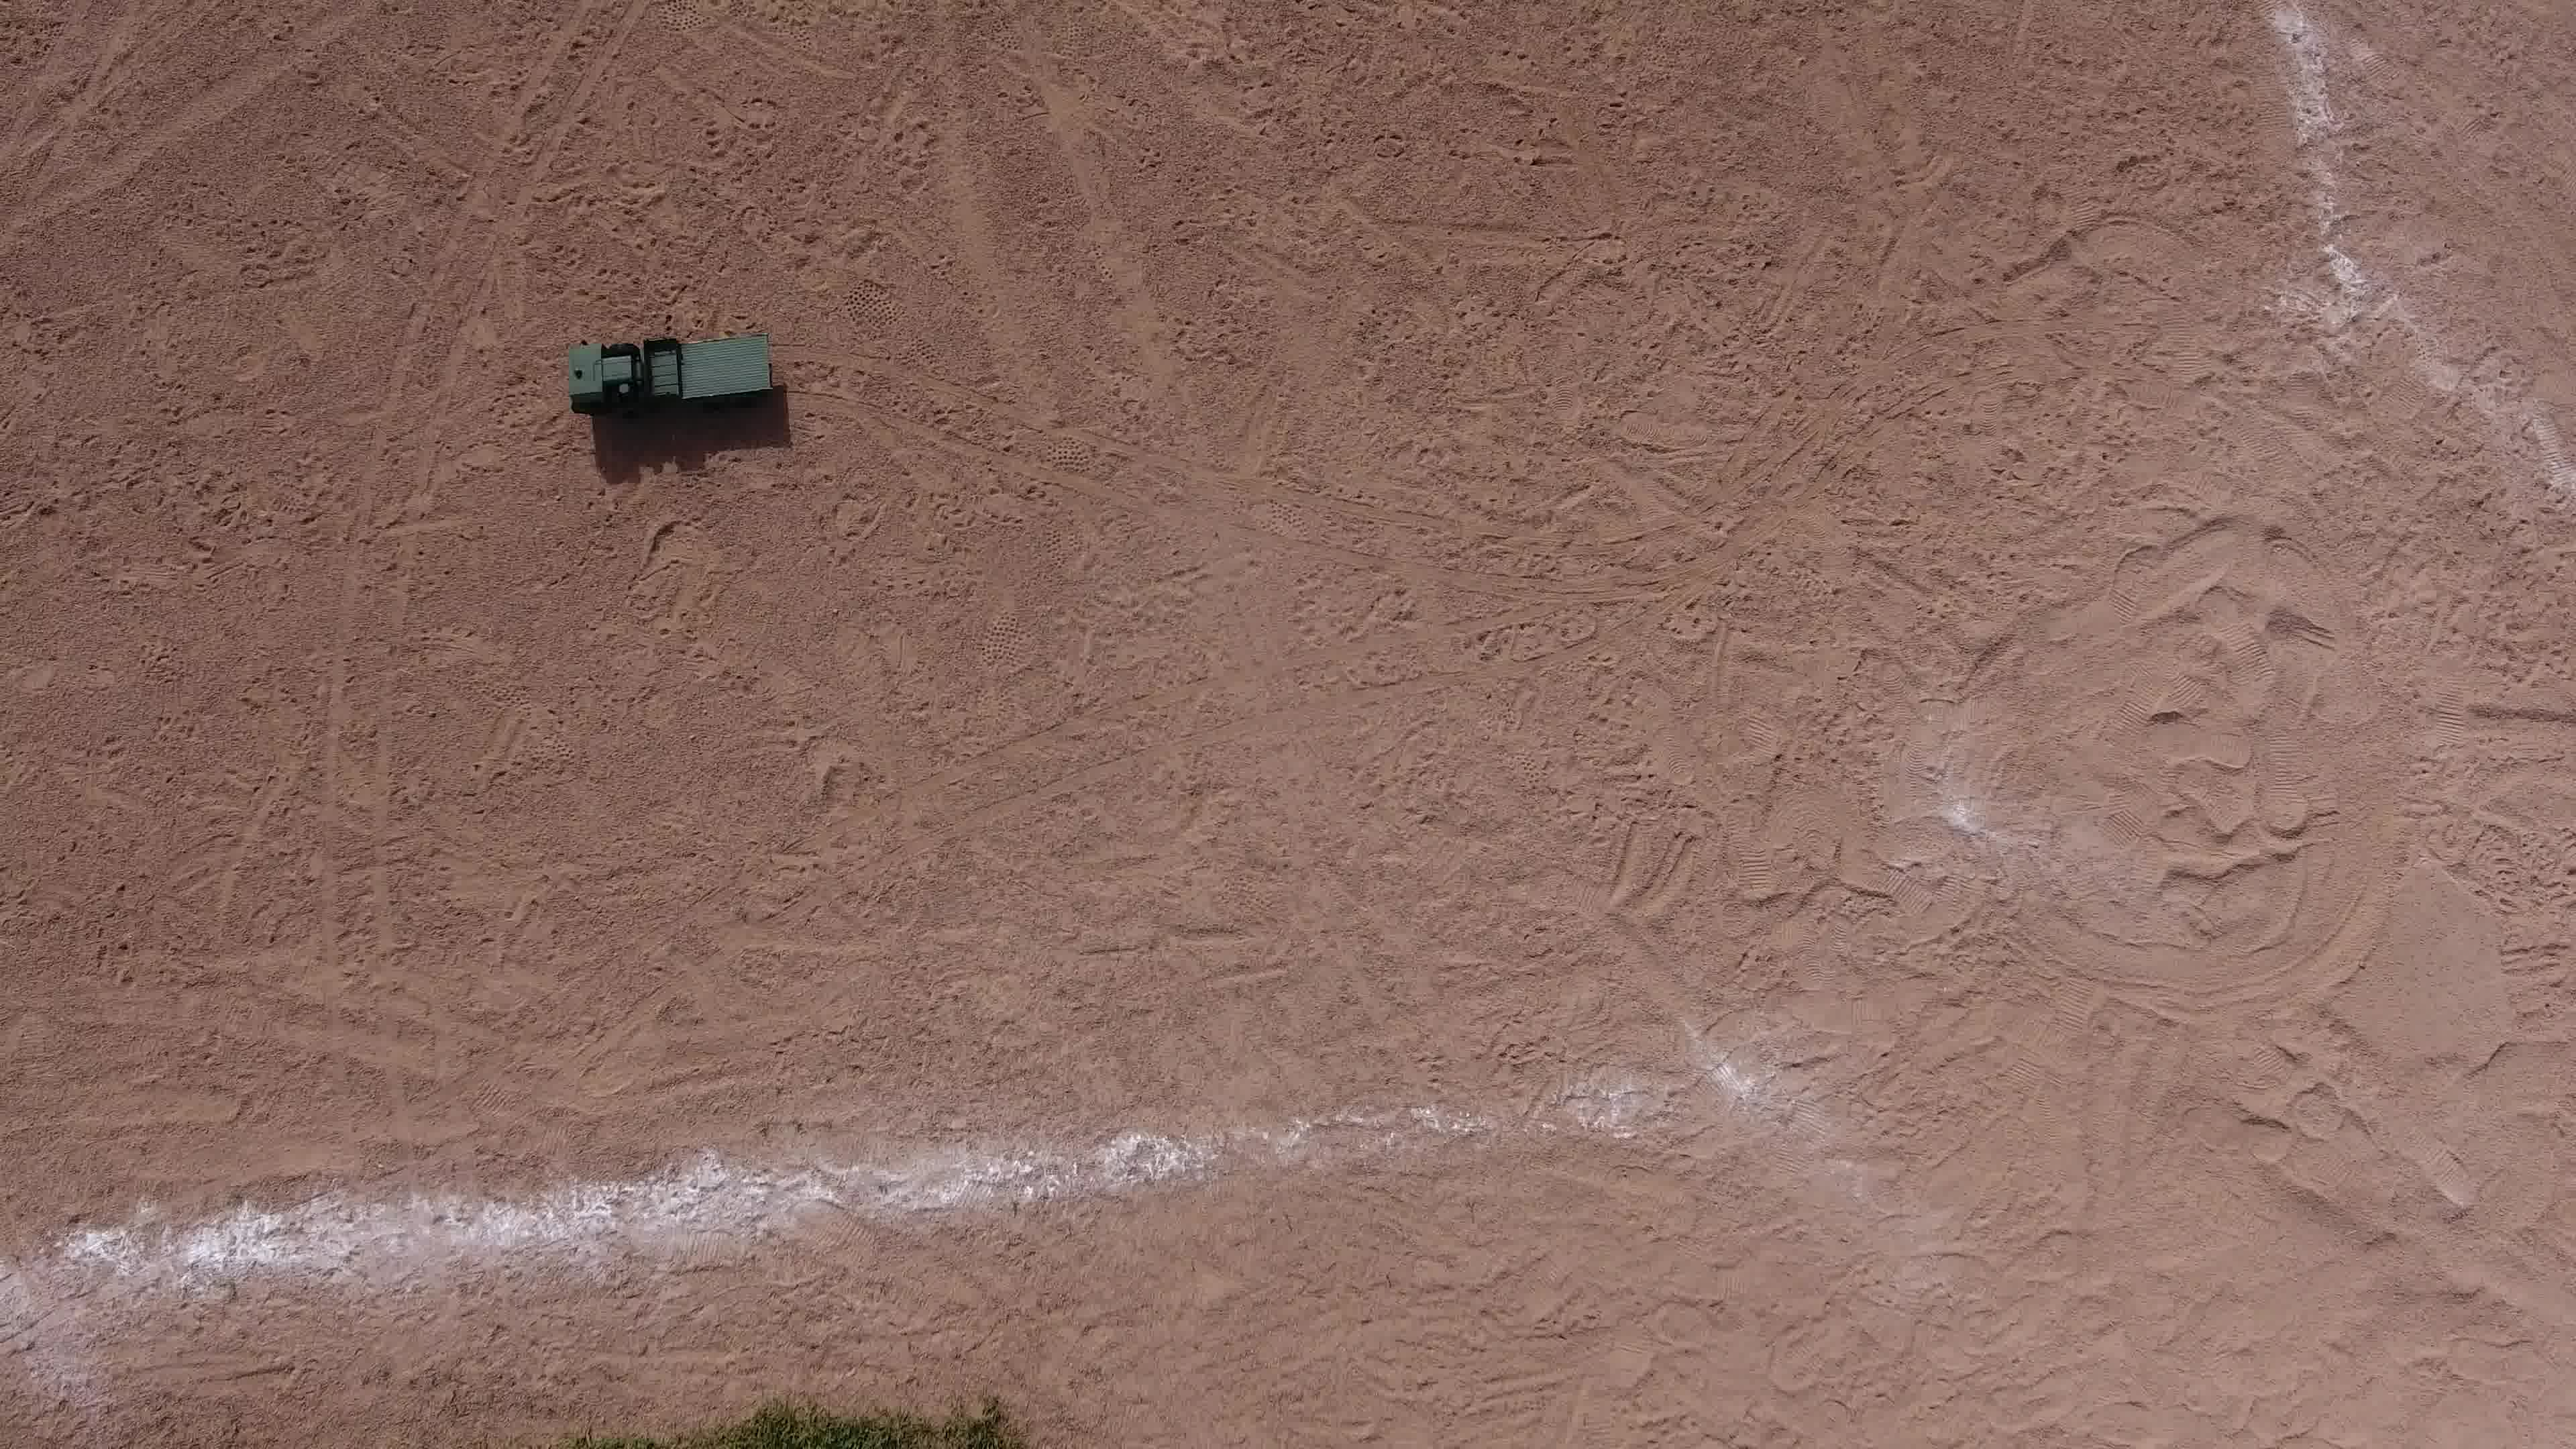transporter9: (559, 327, 798, 418)
